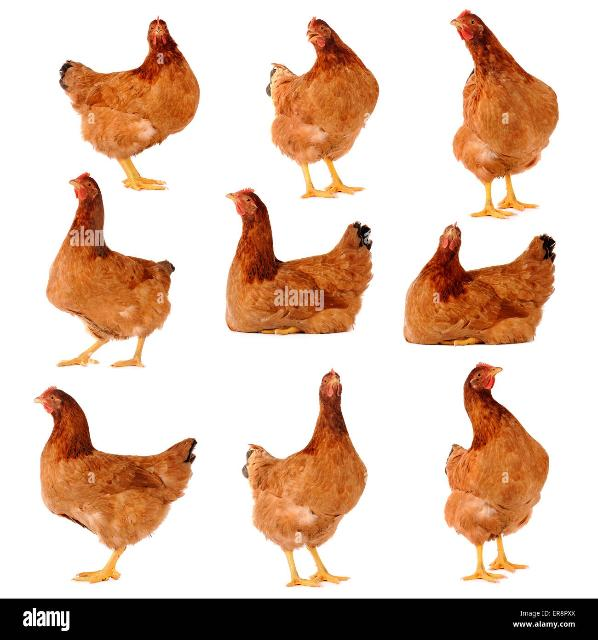Chicken: (31, 384, 198, 584), (238, 365, 369, 585), (46, 172, 179, 368), (58, 15, 201, 192), (443, 359, 548, 584), (450, 9, 559, 221), (223, 189, 374, 335), (267, 15, 381, 201), (402, 219, 555, 343)
